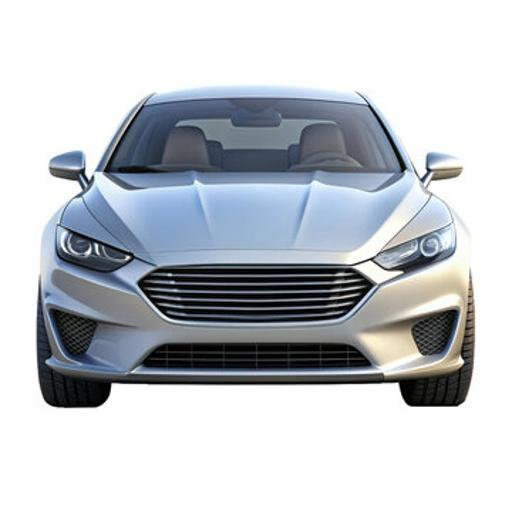sedan: (38, 86, 473, 405)
